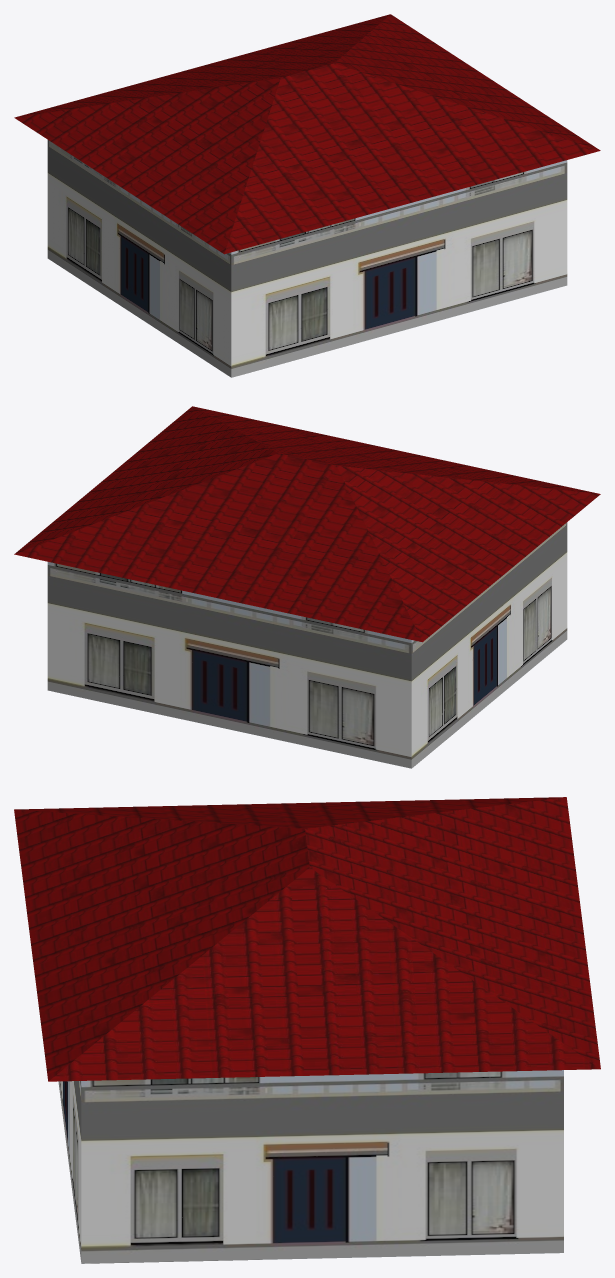
3 renders of one model, top to bottom at view 1: azimuth 30°, elevation 25°; view 2: azimuth 150°, elevation 25°; view 3: azimuth 270°, elevation 25°, orthographic. The views are drawn at different scales.
Visible parts, largest first — view 1: CityEngineMaterial_17_m, CityEngineMaterial_7_m; view 2: CityEngineMaterial_17_m, CityEngineMaterial_7_m; view 3: CityEngineMaterial_17_m, CityEngineMaterial_7_m.
Boxes of the visible parts, <box> form: CityEngineMaterial_17_m: <box>14,14,600,254</box>; CityEngineMaterial_7_m: <box>47,140,567,377</box>; CityEngineMaterial_17_m: <box>14,406,600,642</box>; CityEngineMaterial_7_m: <box>47,522,567,768</box>; CityEngineMaterial_17_m: <box>14,797,600,1081</box>; CityEngineMaterial_7_m: <box>58,1070,563,1263</box>.
Size of the model in its own units: 18.05 by 8.55 by 15.73.
